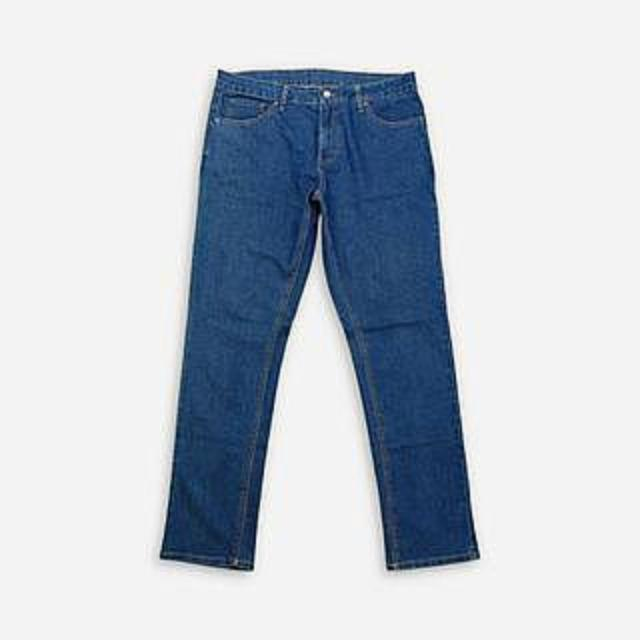TROUSER: (142, 54, 515, 576)
